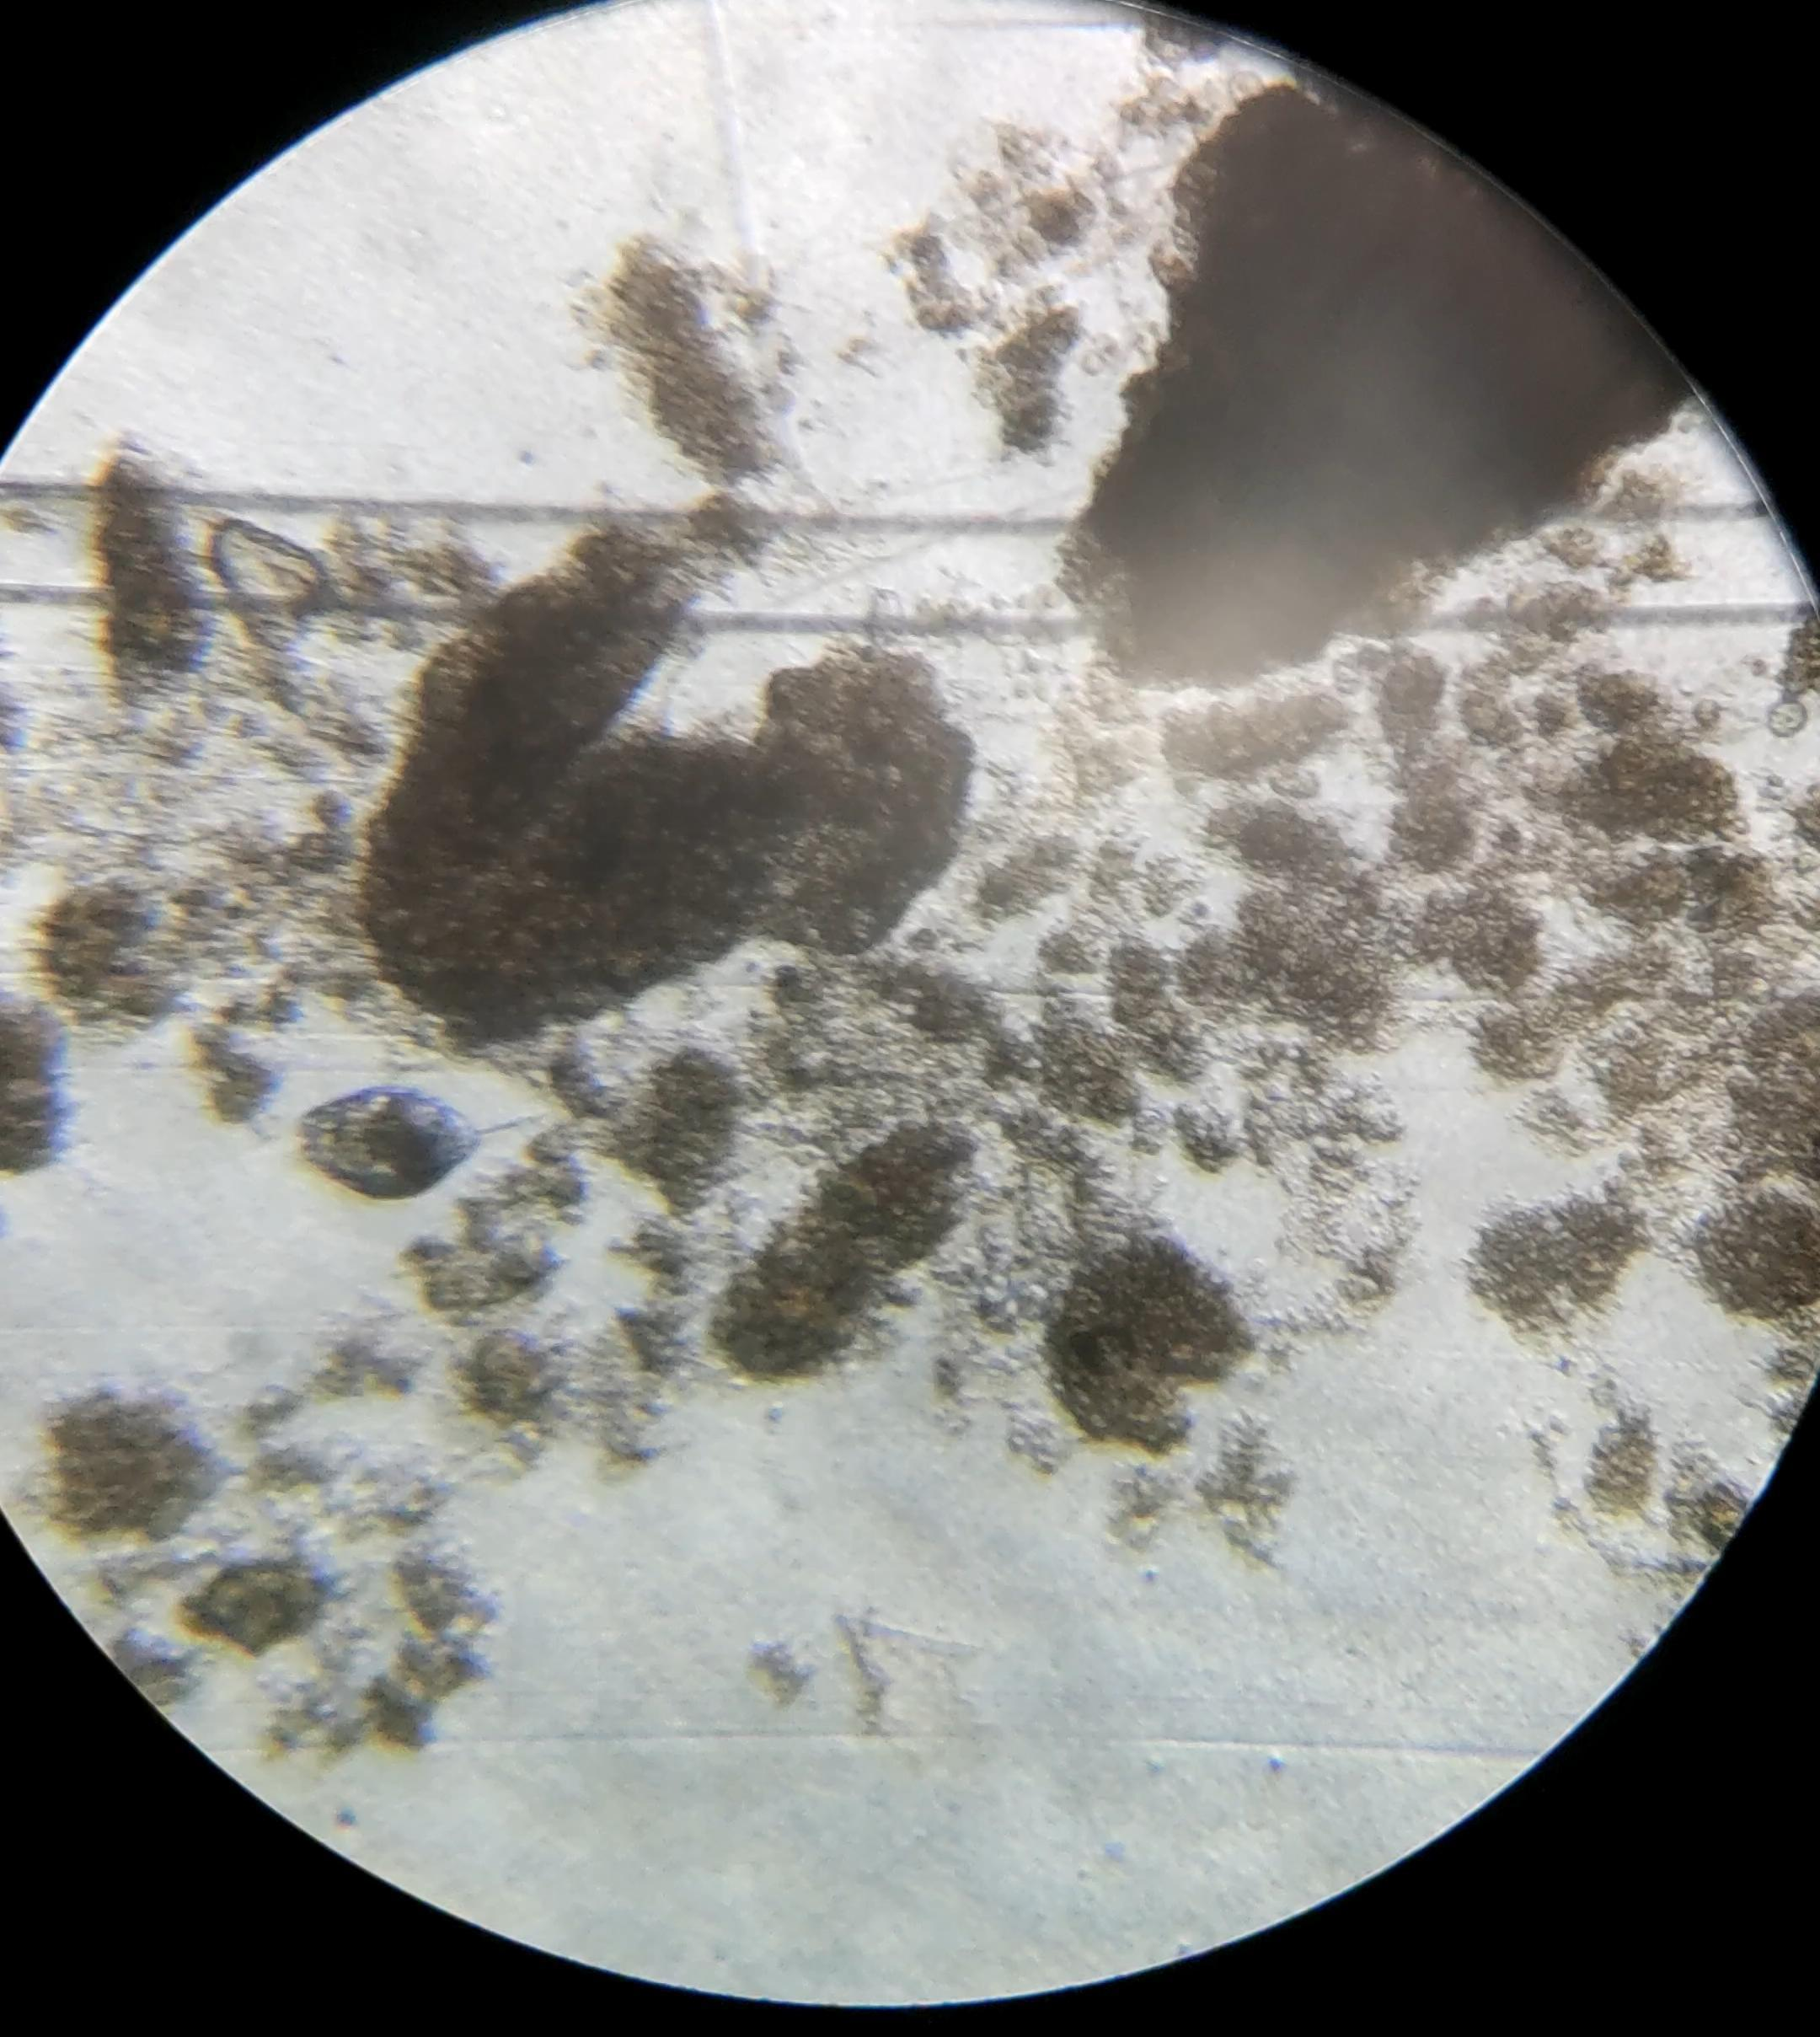Mo: (300, 1088, 543, 1199)
